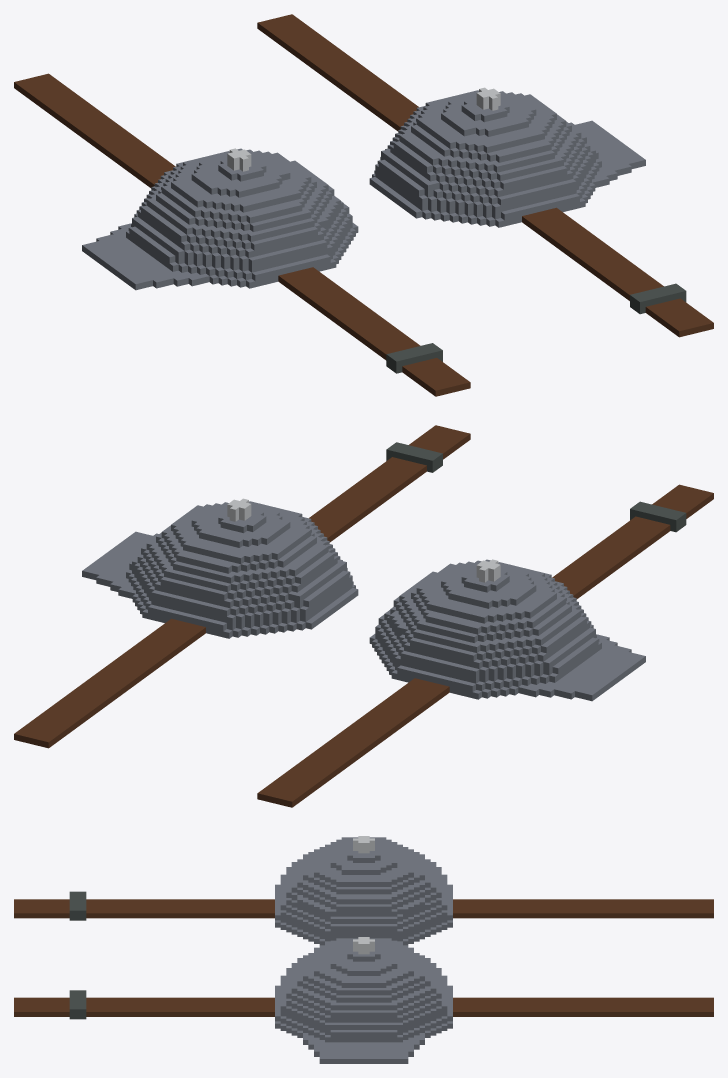
Rendered from ch_legguard_metal_sheets_knees.glb.
3 views of the same model, one above another, from view 1: azimuth 30°, elevation 25°; view 2: azimuth 150°, elevation 25°; view 3: azimuth 270°, elevation 25° (orthographic). The views are drawn at different scales.
Parts seen in each view (by area): view 1: ch_legguard_metal_sheets_knees:compound; view 2: ch_legguard_metal_sheets_knees:compound; view 3: ch_legguard_metal_sheets_knees:compound.
Boxes of the visible parts, bbox=[...] form: ch_legguard_metal_sheets_knees:compound: bbox=[14, 14, 713, 396]; ch_legguard_metal_sheets_knees:compound: bbox=[14, 425, 713, 807]; ch_legguard_metal_sheets_knees:compound: bbox=[14, 836, 713, 1063].
Size of the model in its own units: 0.352 by 0.056 by 0.504.
